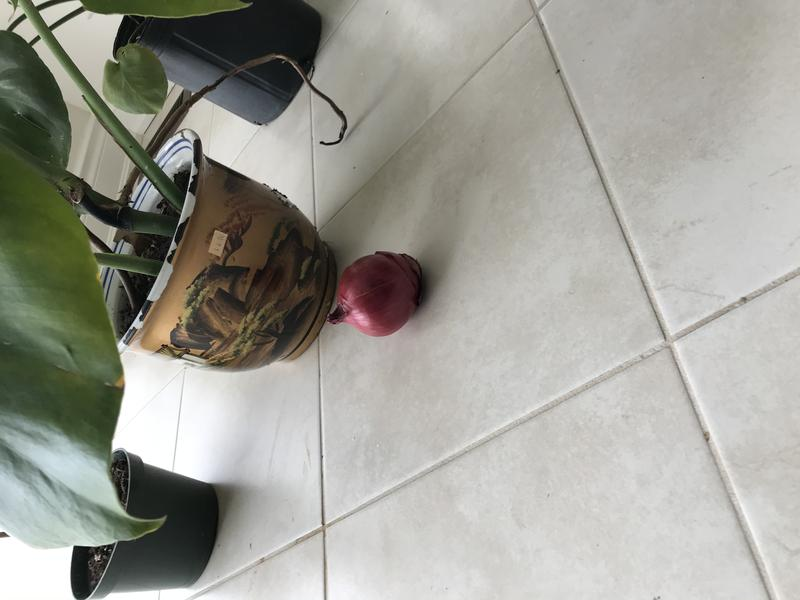purple_onion: (322, 233, 430, 344)
